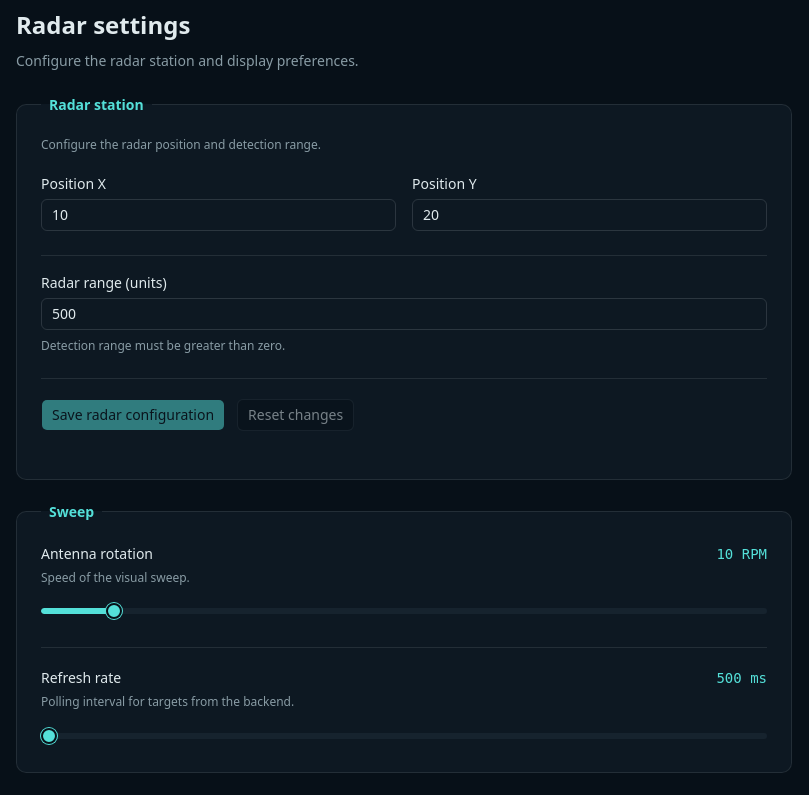
Test: RadarConfigForm › submits changed station values as a config request
Replace the text in the number field labelled "Position X" with "25" at (218, 215), box [41,199,396,231]
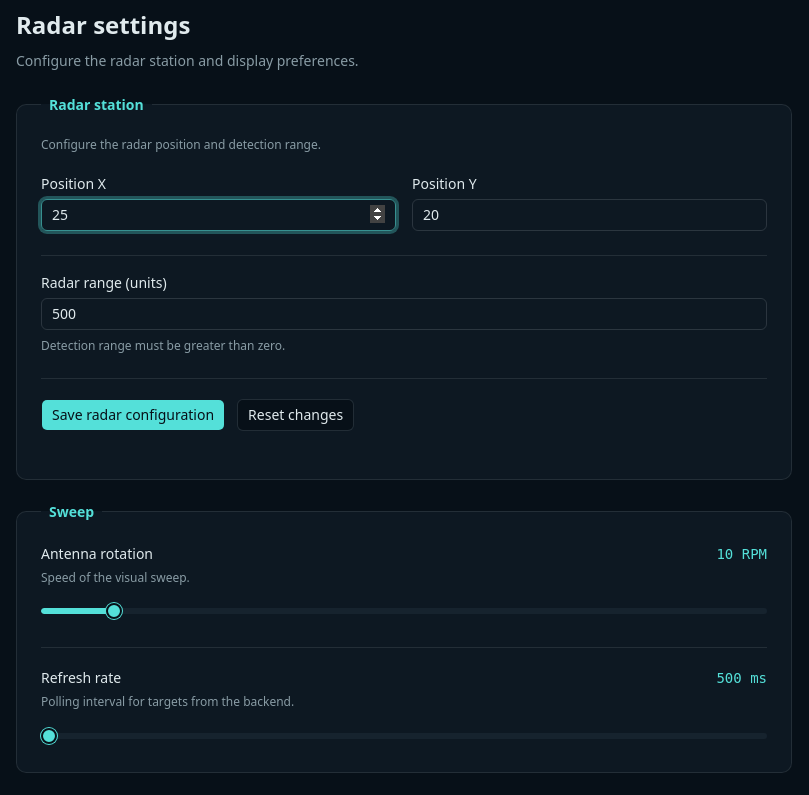
Replace the text in the number field labelled "Position Y" with "-5" at (590, 215), box [412,199,767,231]
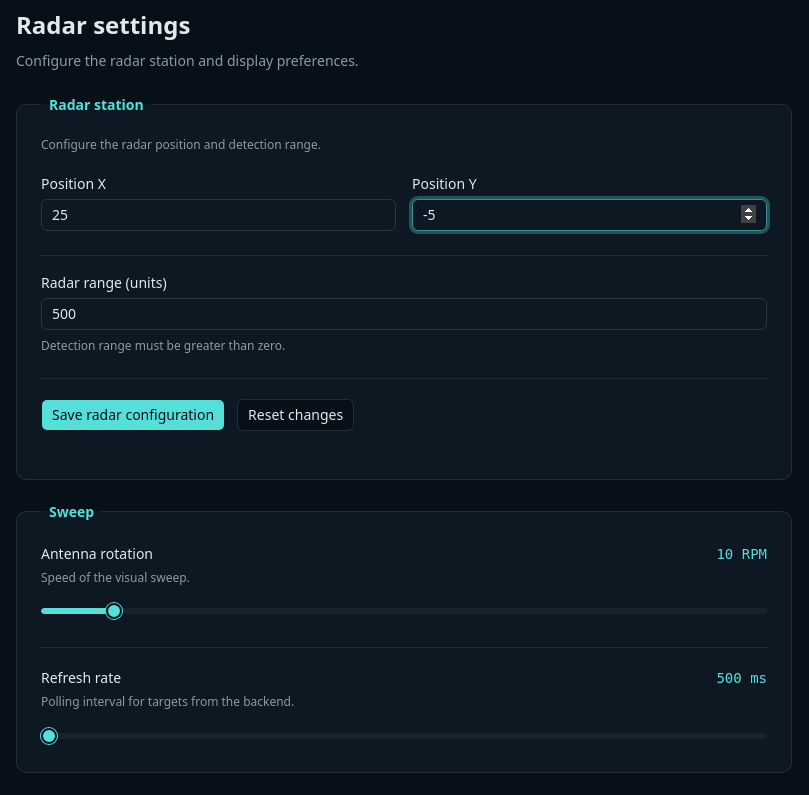
Replace the text in the number field labelled "Radar range (units)" with "750" at (404, 314), box [41,298,767,330]
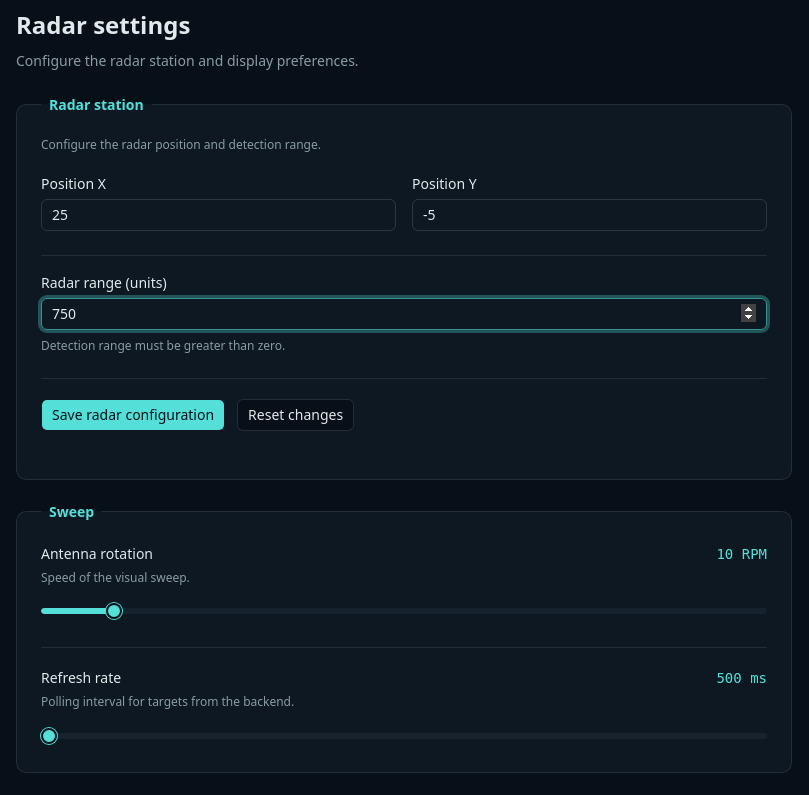
Click the button "Save radar configuration" at (133, 415), box [41,399,225,431]
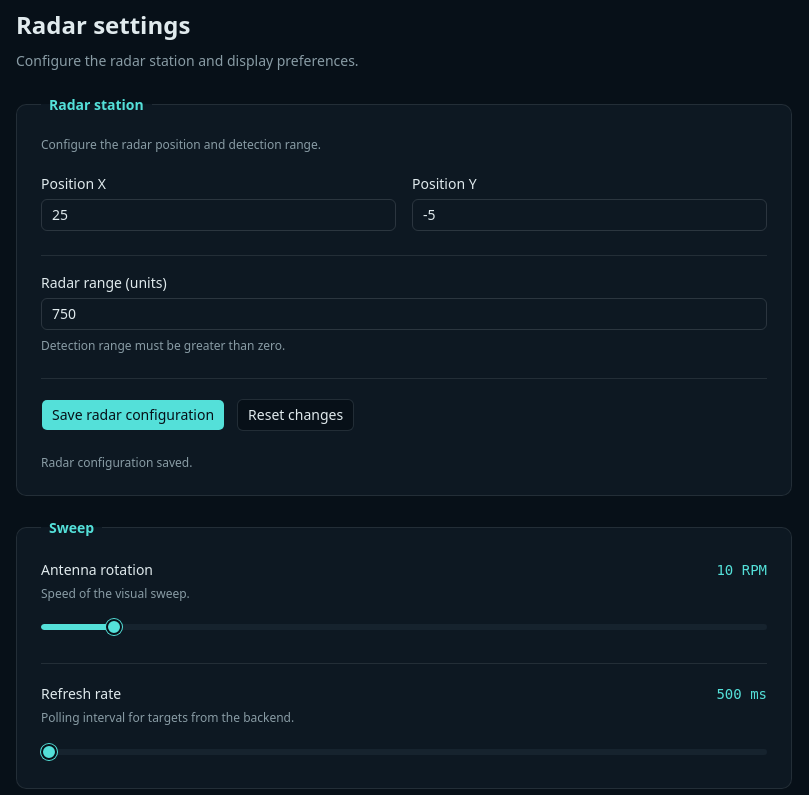
Check: the text "Radar configuration saved." is shown, box [41,454,192,471]
